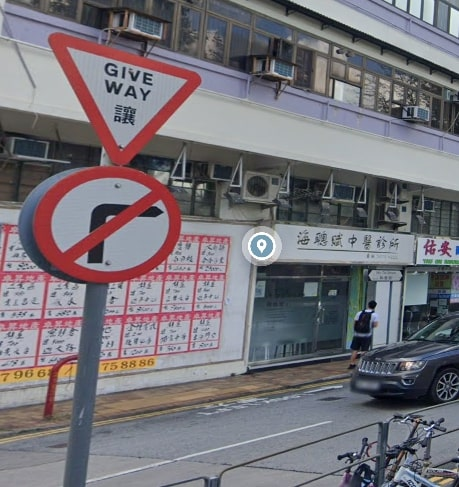Give Way: (47, 33, 208, 161)
No Turn Right: (28, 168, 185, 287)
